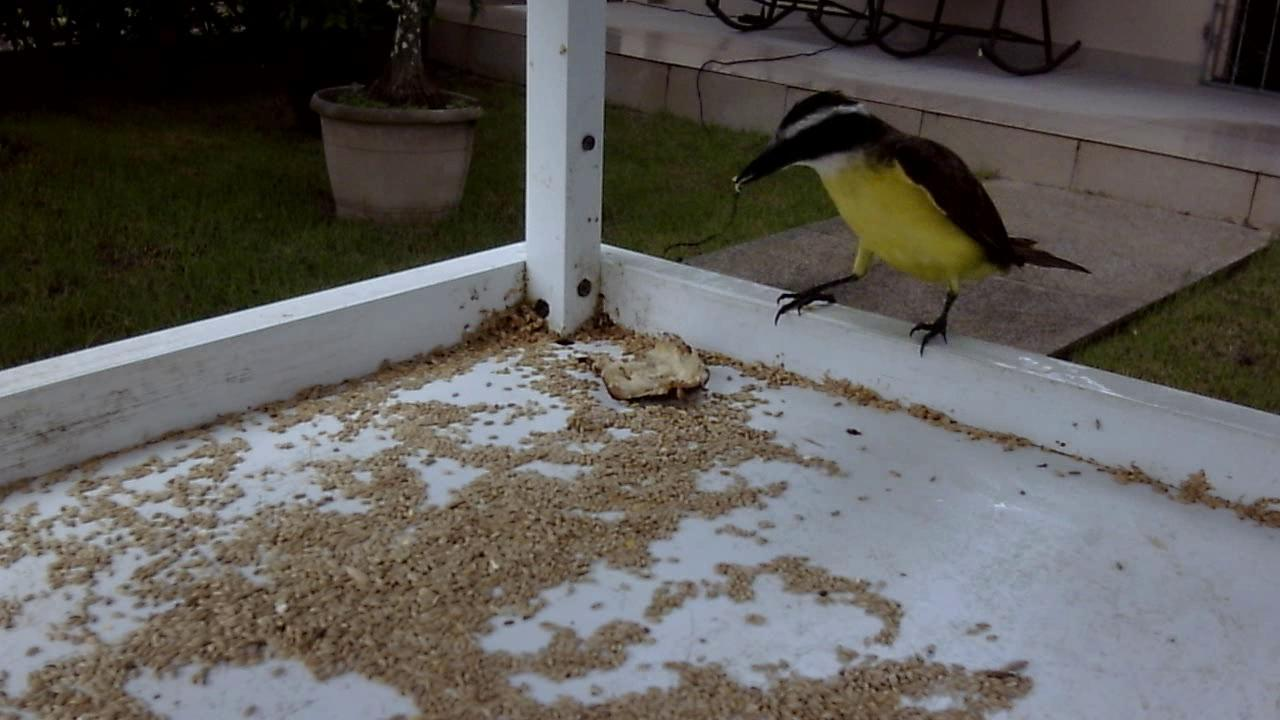bem_te_vi: (714, 78, 1100, 374)
